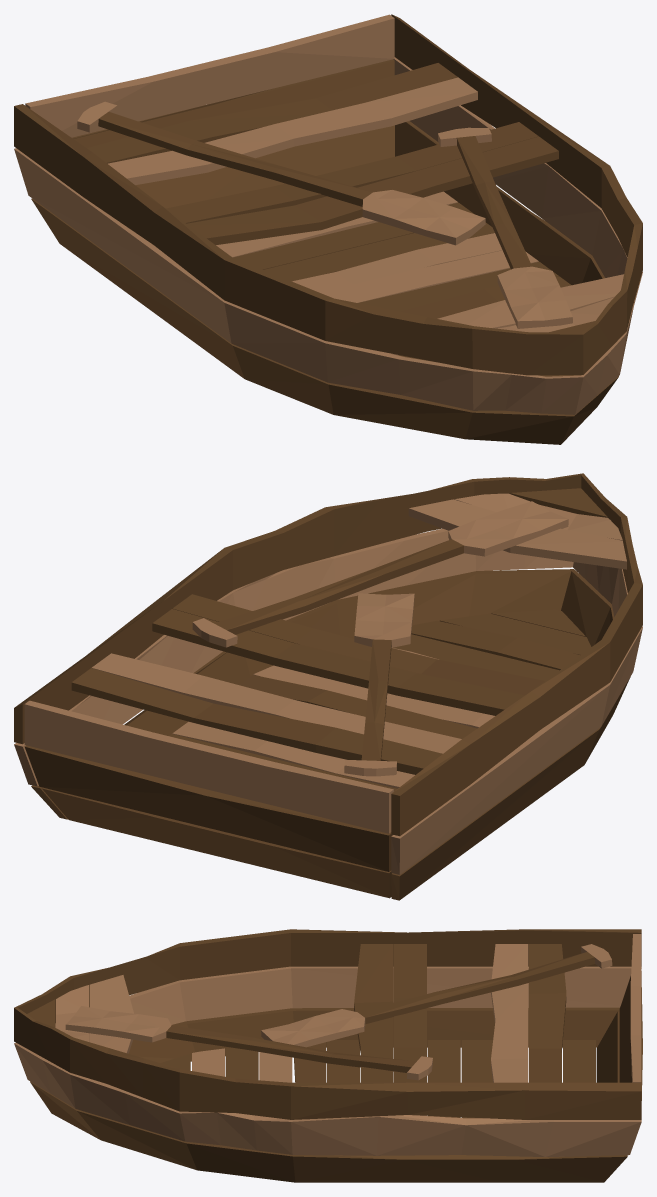
Rendered from Boat.fbx.
The picture shows the model from 3 angles, top to bottom: view 1: azimuth 30°, elevation 25°; view 2: azimuth 150°, elevation 25°; view 3: azimuth 270°, elevation 25°; orthographic projection. The views are drawn at different scales.
Parts seen in each view (by area): view 1: M_Boat; view 2: M_Boat; view 3: M_Boat.
Part boxes in pixels (<box>): M_Boat: <box>14,14,642,444</box>; M_Boat: <box>14,473,642,900</box>; M_Boat: <box>14,929,642,1182</box>.
Bounding box in the file's own units: 0.711 × 0.2269 × 1.2.
1 material, 1 textured.
